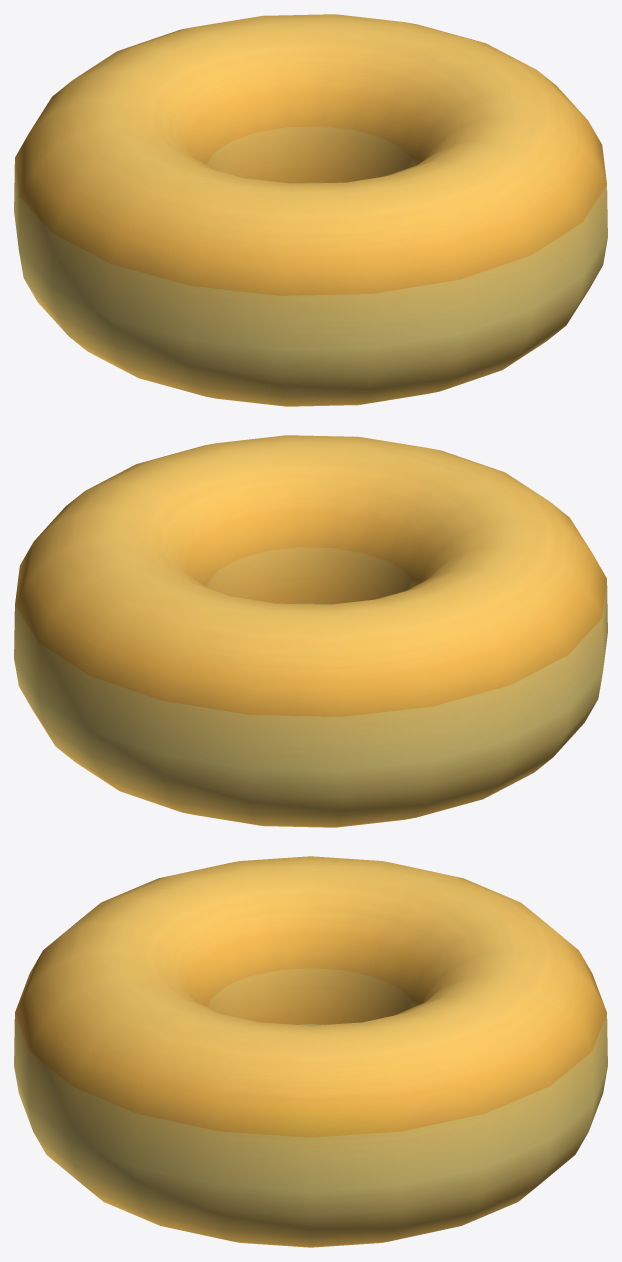
Rendered from donut.fbx.
3 renders of one model, top to bottom at view 1: azimuth 30°, elevation 25°; view 2: azimuth 150°, elevation 25°; view 3: azimuth 270°, elevation 25°, orthographic.
Parts seen in each view (by area): view 1: donut1; view 2: donut1; view 3: donut1.
Boxes of the visible parts, box(x1,y1,x2,y2) form: donut1: box(14, 14, 607, 406); donut1: box(14, 435, 607, 827); donut1: box(14, 856, 607, 1247).
Bounding box in the file's own units: 81.11 × 31 × 81.11.
Materials: 1 (1 with a texture image).
